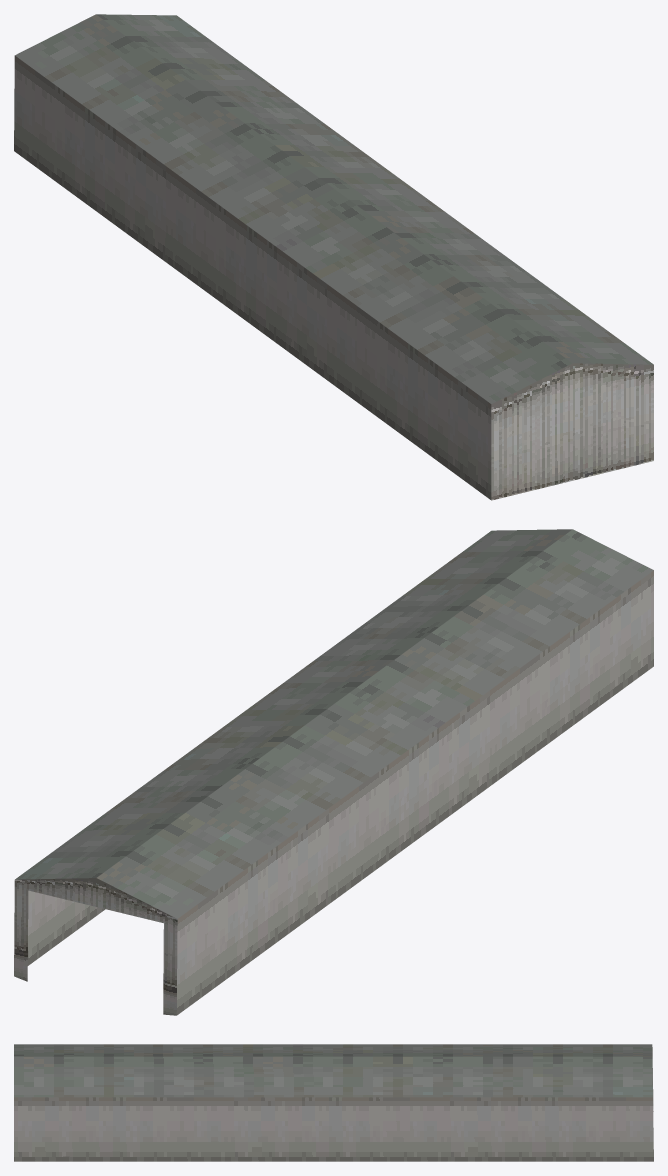
File: lodrailbuild02.obj
The picture shows the model from 3 angles, top to bottom: view 1: azimuth 30°, elevation 25°; view 2: azimuth 150°, elevation 25°; view 3: azimuth 270°, elevation 25°; orthographic projection. The views are drawn at different scales.
Parts seen in each view (by area): view 1: lodrailbuild02; view 2: lodrailbuild02; view 3: lodrailbuild02.
Boxes of the visible parts, x1=… form: lodrailbuild02: x1=14, y1=14, x2=653, y2=500; lodrailbuild02: x1=14, y1=529, x2=653, y2=1015; lodrailbuild02: x1=14, y1=1044, x2=653, y2=1161.
Size of the model in its own units: 11.75 by 8.27 by 59.86.
2 materials, 2 textured.
